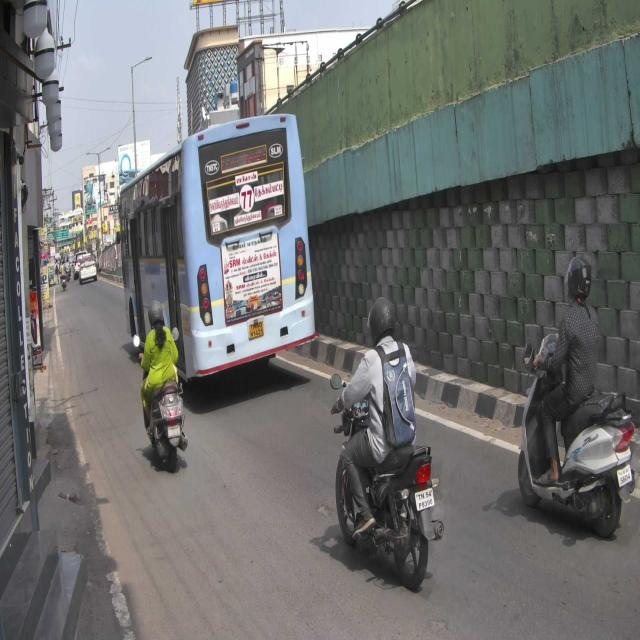single_rider: (516, 255, 636, 537), (330, 296, 444, 590), (133, 294, 189, 472)
